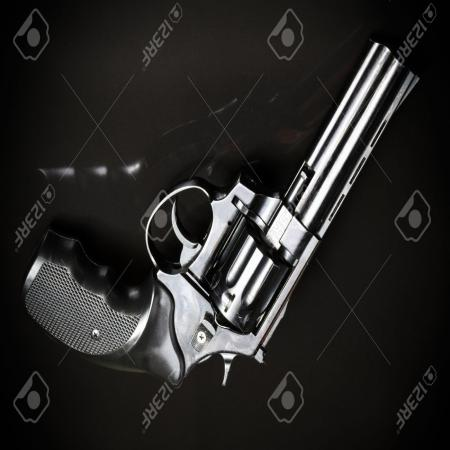Pistol: (22, 36, 426, 390)
